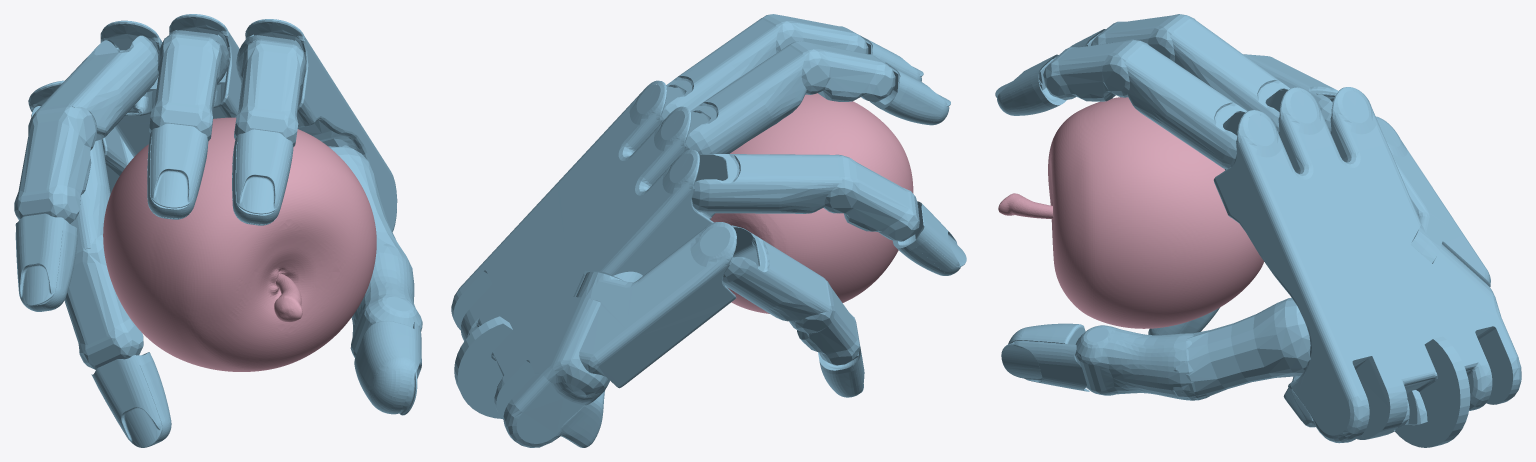
3 renders of one model, left to right at view 1: azimuth 30°, elevation 25°; view 2: azimuth 150°, elevation 25°; view 3: azimuth 270°, elevation 25°, orthographic. The views are drawn at different scales.
Visible parts, largest first — view 1: world, apple.stl; view 2: world, apple.stl; view 3: world, apple.stl.
Boxes of the visible parts, x1,y1,x2,y2 form: world: (14, 14, 422, 447); apple.stl: (103, 117, 376, 371); world: (451, 14, 966, 447); apple.stl: (710, 93, 913, 313); world: (995, 14, 1521, 447); apple.stl: (998, 97, 1263, 328).
Size of the model in its own units: 0.1615 by 0.127 by 0.1726.
